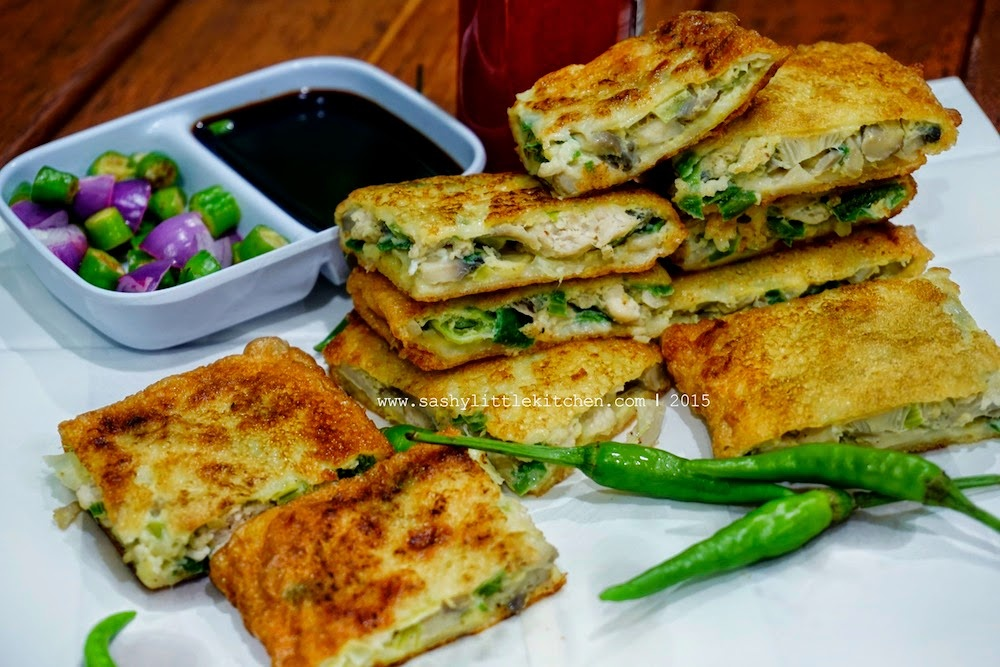martabak: (55, 4, 1000, 666)
